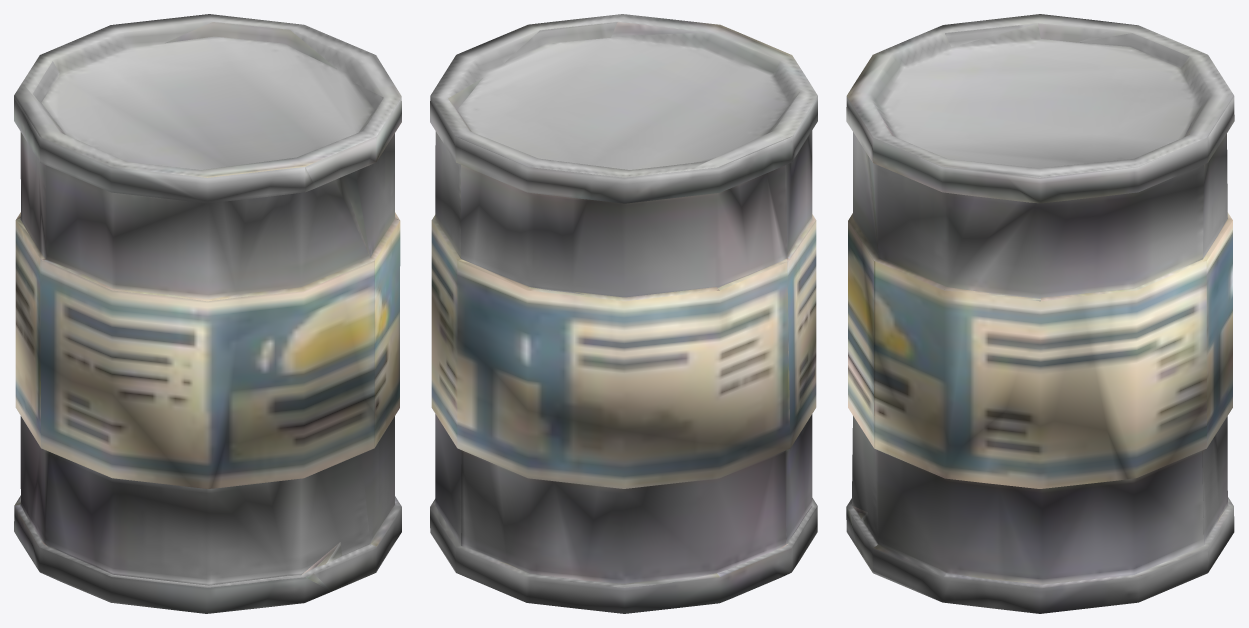
The model's file is beans.glb.
3 views of the same model, side by side, from view 1: azimuth 30°, elevation 25°; view 2: azimuth 150°, elevation 25°; view 3: azimuth 270°, elevation 25° (orthographic).
Visible parts, largest first — view 1: Mesh1.0; view 2: Mesh1.0; view 3: Mesh1.0.
Boxes of the visible parts, x1=… form: Mesh1.0: x1=14, y1=14, x2=401, y2=613; Mesh1.0: x1=430, y1=14, x2=817, y2=613; Mesh1.0: x1=846, y1=14, x2=1234, y2=613.
Size of the model in its own units: 1.54 by 1.91 by 1.54.
1 material, 1 textured.
